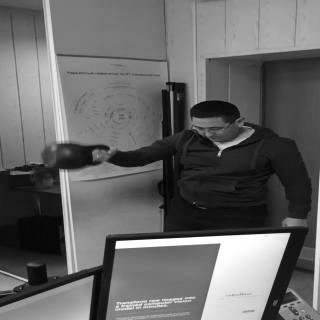kettlebell: (45, 143, 110, 171)
